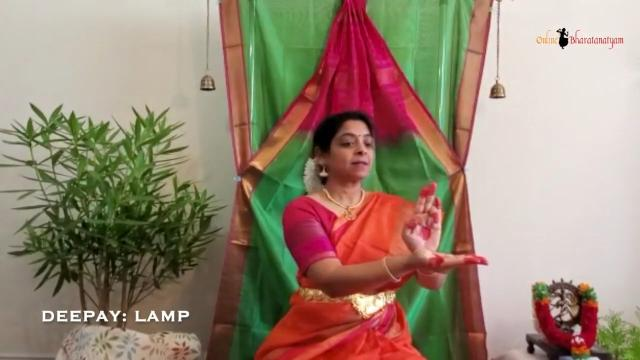tripataka: (402, 176, 446, 264)
